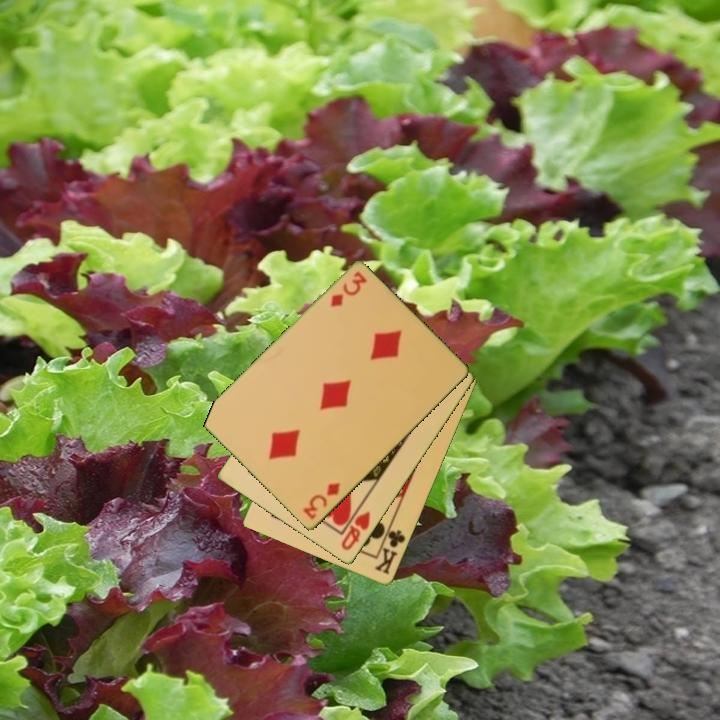3d: (299, 479, 343, 523), (327, 268, 370, 311)
Kc: (371, 521, 408, 578)
Qh: (338, 508, 373, 554)
